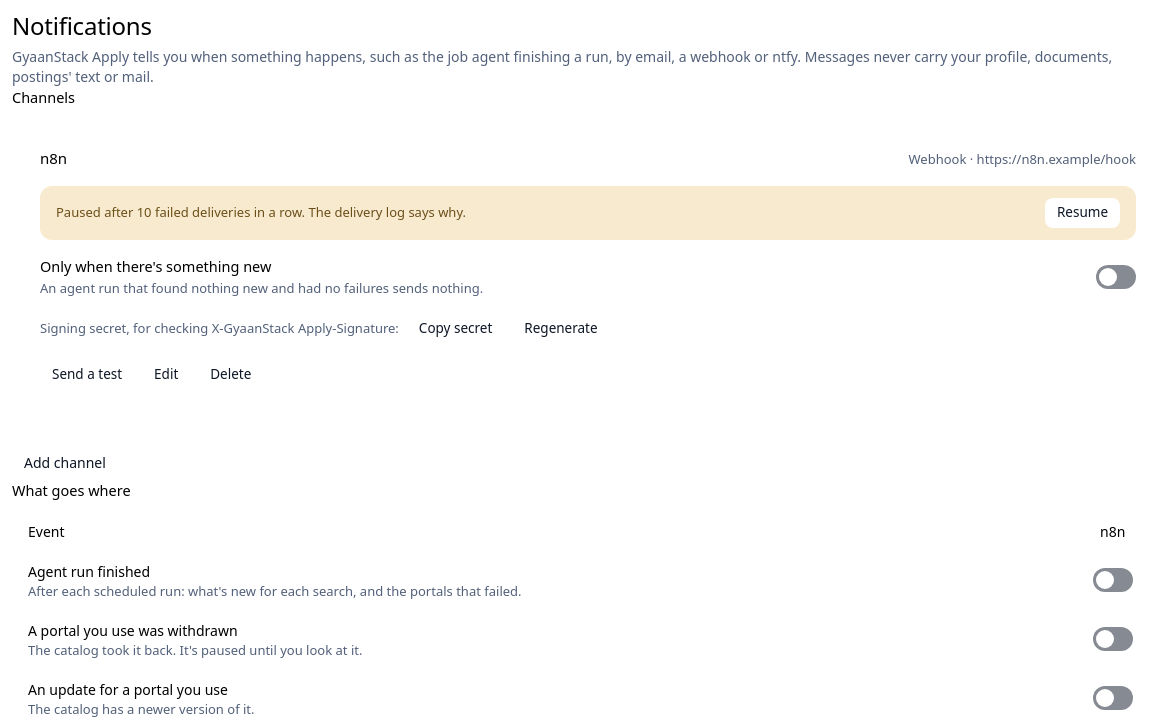
Test: Settings → Notifications (E26) › says a channel is paused, and resumes it
Expected: the message shows "Paused after 10 failed deliveries in a row.", [40, 186, 1136, 240]
Click the button "Resume" at (1082, 213), box [1045, 198, 1120, 228]
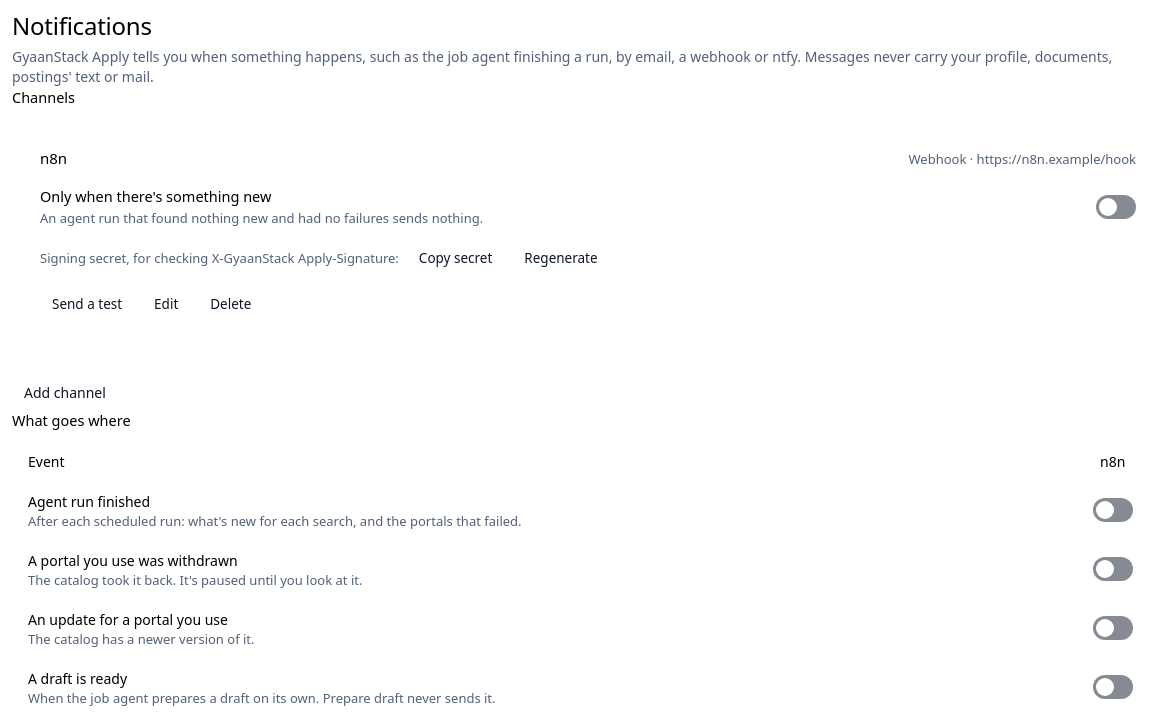
Expected: the message "Paused after 10 failed deliveries in a row. The delivery log says why. Resume" is gone
